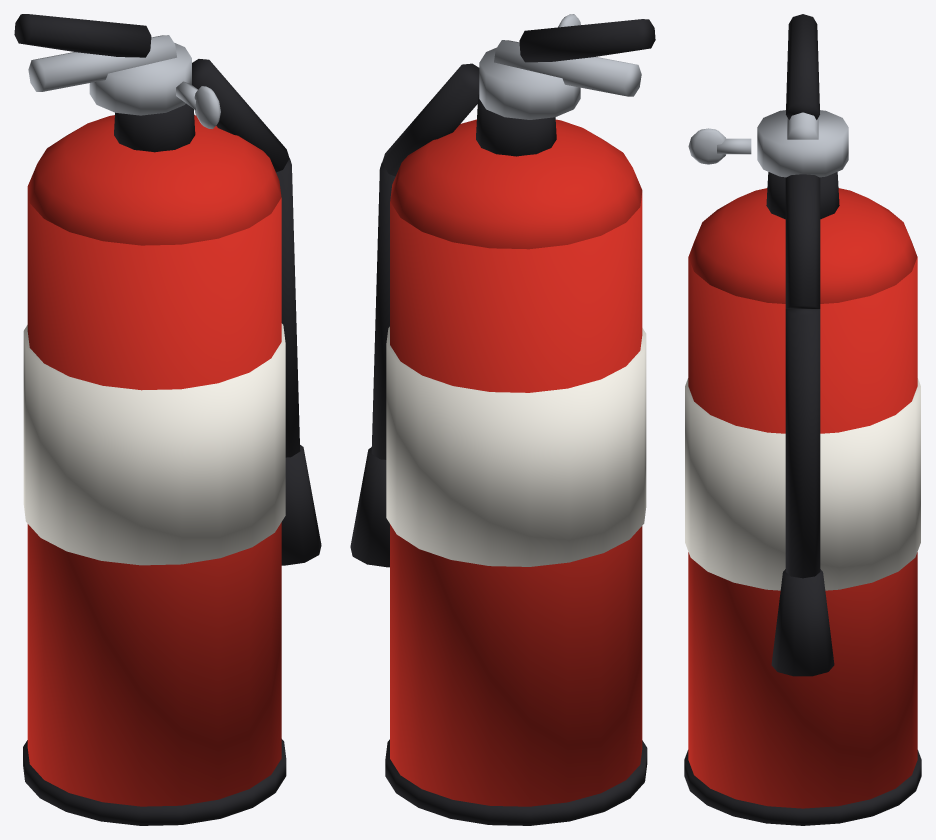
File: Item_Extinguisher.glb
3 renders of one model, left to right at view 1: azimuth 30°, elevation 25°; view 2: azimuth 150°, elevation 25°; view 3: azimuth 270°, elevation 25°, orthographic. The views are drawn at different scales.
Visible parts, largest first — view 1: Item_Extinguisher; view 2: Item_Extinguisher; view 3: Item_Extinguisher.
Boxes of the visible parts, x1,y1,x2,y2 form: Item_Extinguisher: [14, 14, 321, 825]; Item_Extinguisher: [350, 14, 655, 825]; Item_Extinguisher: [684, 14, 921, 825].
Size of the model in its own units: 21.52 by 54.44 by 16.6.
